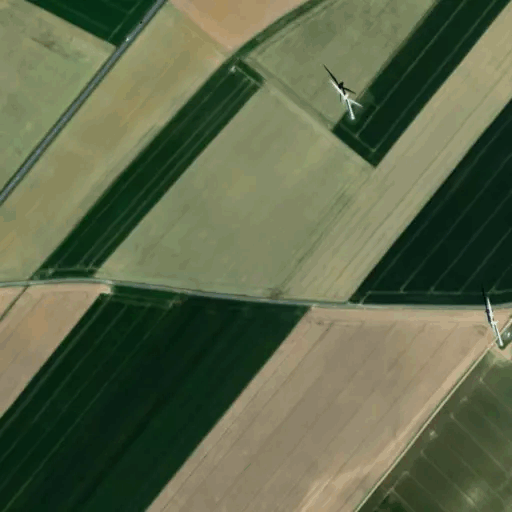wt: (318, 57, 371, 145), (475, 282, 511, 369)
